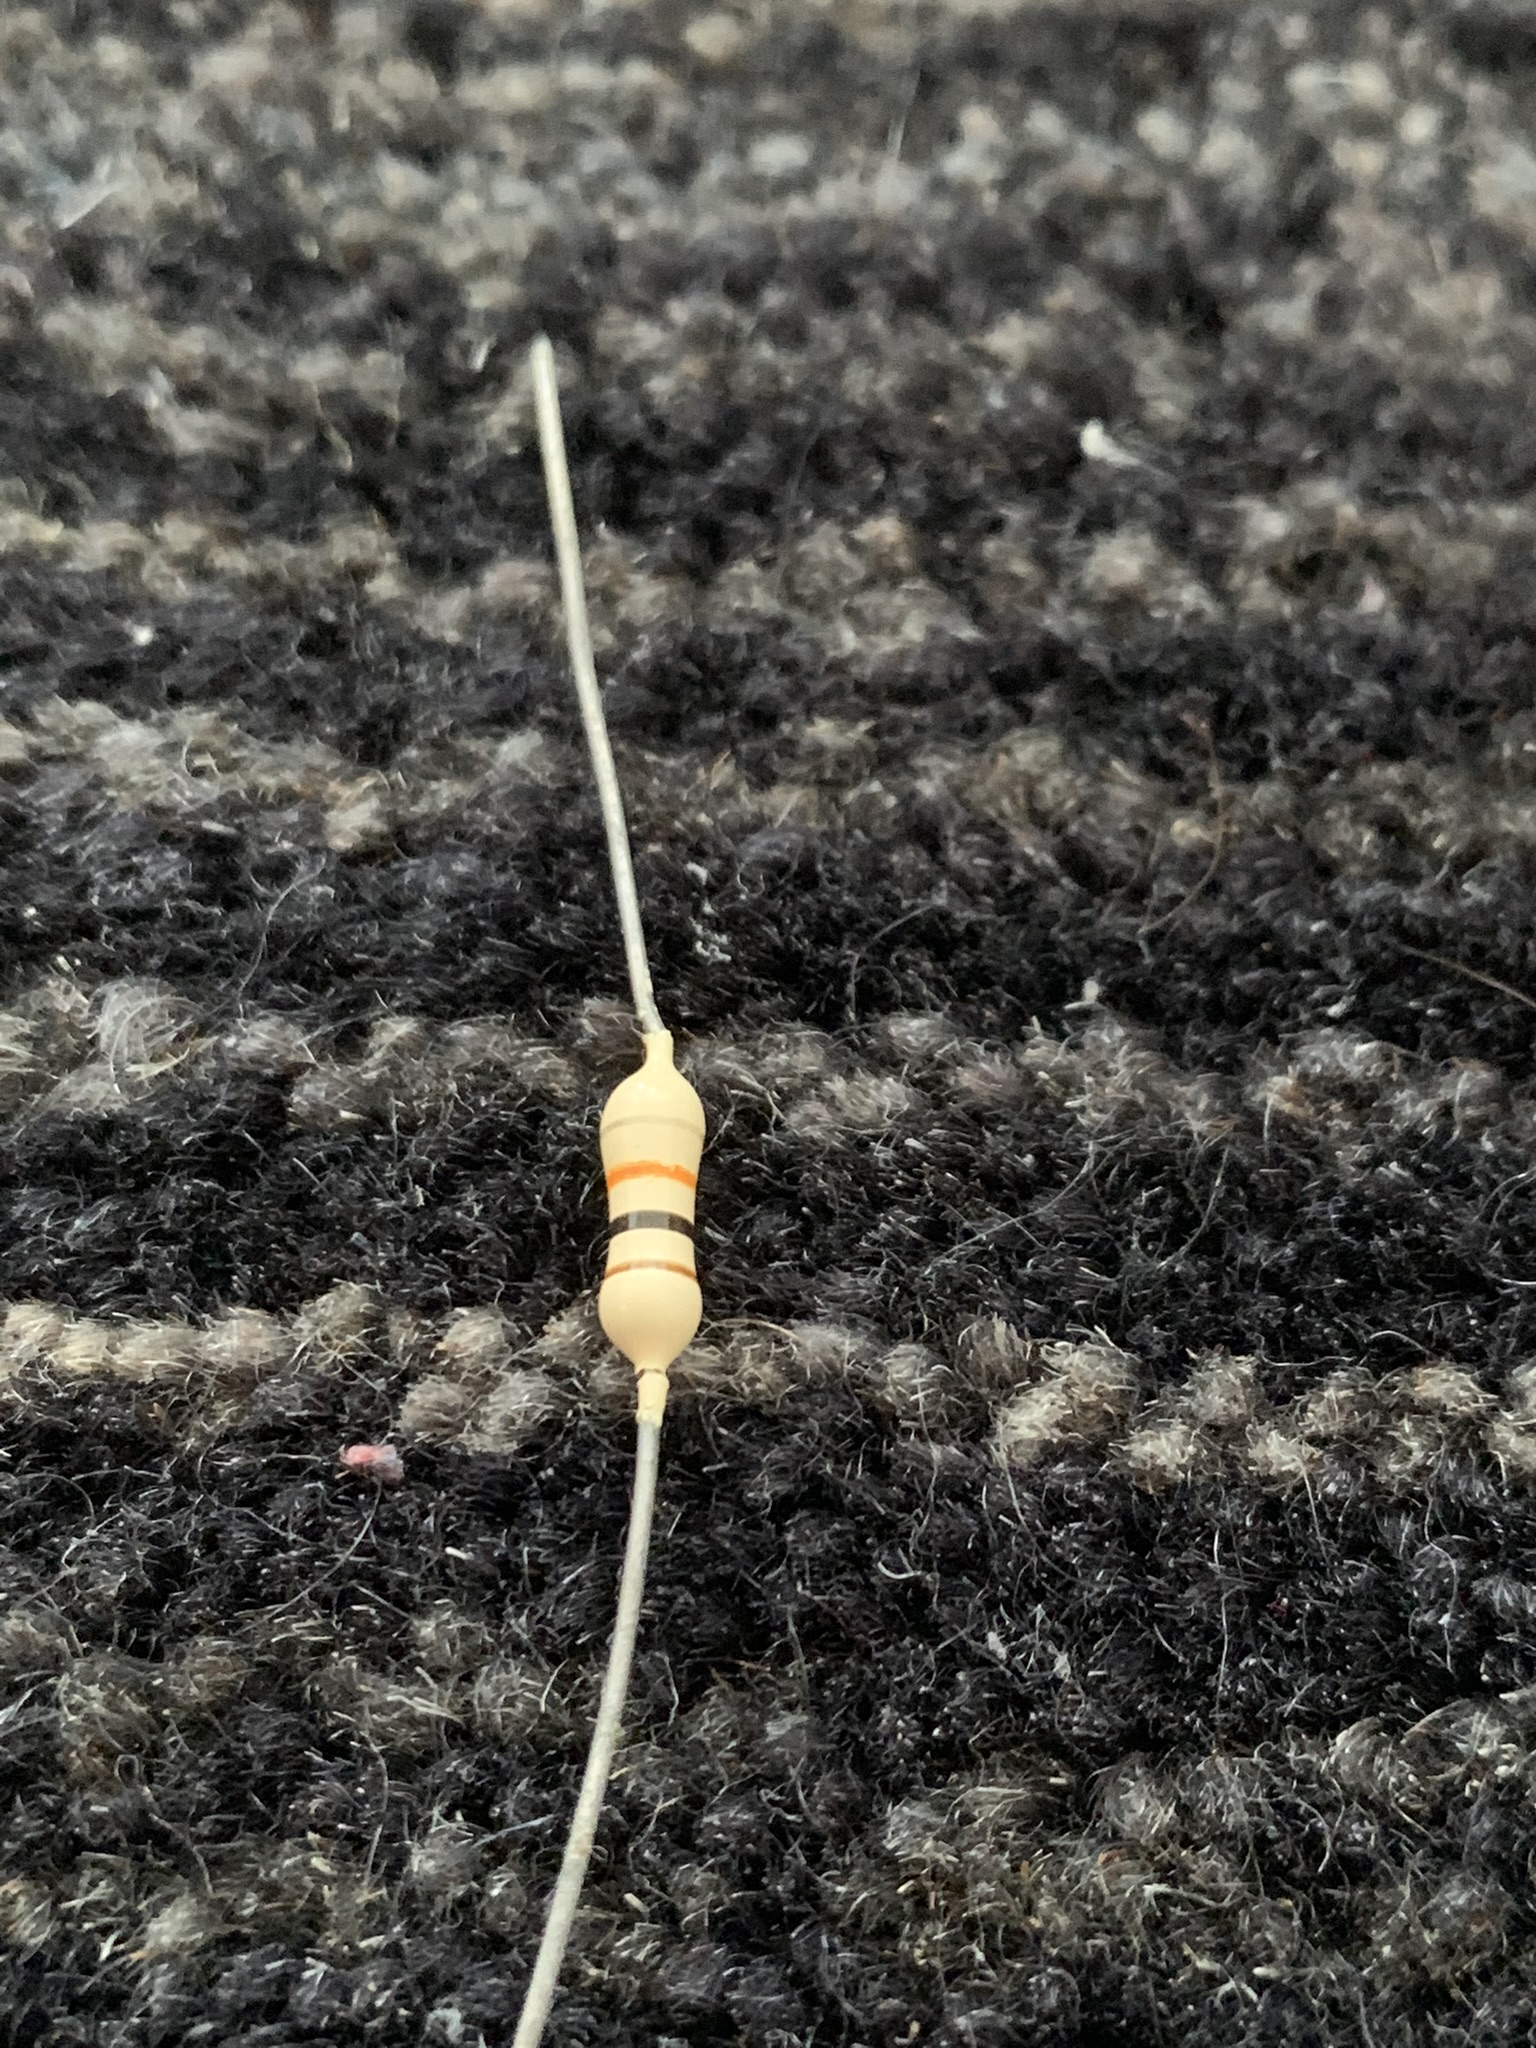resistor_thd: (599, 1077, 708, 1345)
